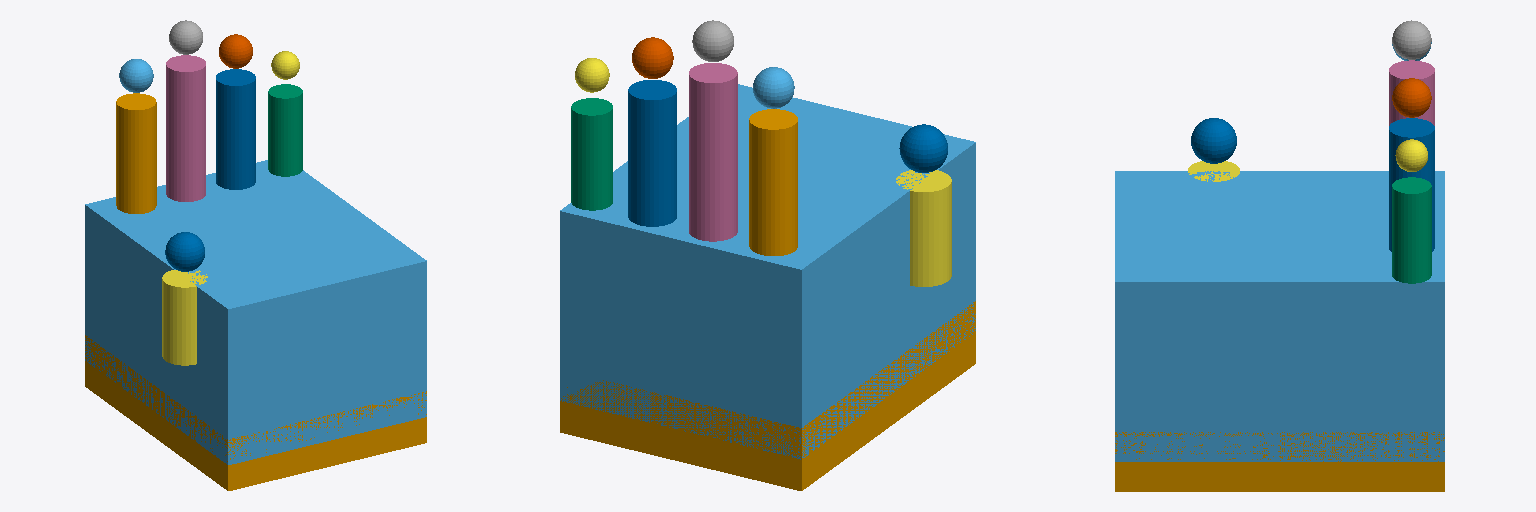
URDF robot description (inspire_ftp_right):
<?xml version="1.0" encoding="utf-8"?>
<!-- 
  Inspire FTP Right Gripper URDF
  
  This is a simplified URDF for the Inspire FTP gripper for use with dex-retargeting.
  The Inspire FTP has 6 DOF per hand:
  - Index finger (1 DOF)
  - Middle finger (1 DOF)
  - Ring finger (1 DOF)
  - Pinky finger (1 DOF)
  - Thumb bend (1 DOF)
  - Thumb rotation (1 DOF)
  
  Joint indices match the Inspire FTP hardware order:
  0: pinky, 1: ring, 2: middle, 3: index, 4: thumb_bend, 5: thumb_rotation
-->
<robot name="inspire_ftp_right">
  
  <!-- Base link (wrist mount point) -->
  <link name="R_hand_base">
    <inertial>
      <origin xyz="0 0 0" rpy="0 0 0"/>
      <mass value="0.1"/>
      <inertia ixx="0.001" ixy="0" ixz="0" iyy="0.001" iyz="0" izz="0.001"/>
    </inertial>
    <visual>
      <origin xyz="0 0 0" rpy="0 0 0"/>
      <geometry>
        <box size="0.08 0.1 0.02"/>
      </geometry>
    </visual>
  </link>
  
  <!-- Palm link -->
  <link name="R_palm">
    <inertial>
      <origin xyz="0 0 0.03" rpy="0 0 0"/>
      <mass value="0.15"/>
      <inertia ixx="0.001" ixy="0" ixz="0" iyy="0.001" iyz="0" izz="0.001"/>
    </inertial>
    <visual>
      <origin xyz="0 0 0.03" rpy="0 0 0"/>
      <geometry>
        <box size="0.08 0.1 0.06"/>
      </geometry>
    </visual>
  </link>
  
  <joint name="R_wrist_joint" type="fixed">
    <parent link="R_hand_base"/>
    <child link="R_palm"/>
    <origin xyz="0 0 0" rpy="0 0 0"/>
  </joint>
  
  <!-- ========== PINKY FINGER (idx 0) ========== -->
  <link name="R_pinky_proximal">
    <inertial>
      <origin xyz="0 0 0.02" rpy="0 0 0"/>
      <mass value="0.01"/>
      <inertia ixx="0.0001" ixy="0" ixz="0" iyy="0.0001" iyz="0" izz="0.0001"/>
    </inertial>
    <visual>
      <origin xyz="0 0 0.015" rpy="0 0 0"/>
      <geometry>
        <cylinder radius="0.006" length="0.03"/>
      </geometry>
    </visual>
  </link>
  
  <joint name="R_pinky_proximal_joint" type="revolute">
    <parent link="R_palm"/>
    <child link="R_pinky_proximal"/>
    <origin xyz="0.035 0.04 0.06" rpy="0 0 0"/>
    <axis xyz="1 0 0"/>
    <limit lower="0" upper="1.7" effort="1" velocity="2"/>
  </joint>
  
  <link name="R_pinky_tip">
    <inertial>
      <origin xyz="0 0 0.01" rpy="0 0 0"/>
      <mass value="0.005"/>
      <inertia ixx="0.00001" ixy="0" ixz="0" iyy="0.00001" iyz="0" izz="0.00001"/>
    </inertial>
    <visual>
      <origin xyz="0 0 0.01" rpy="0 0 0"/>
      <geometry>
        <sphere radius="0.005"/>
      </geometry>
    </visual>
  </link>
  
  <joint name="R_pinky_tip_joint" type="fixed">
    <parent link="R_pinky_proximal"/>
    <child link="R_pinky_tip"/>
    <origin xyz="0 0 0.03" rpy="0 0 0"/>
  </joint>
  
  <!-- ========== RING FINGER (idx 1) ========== -->
  <link name="R_ring_proximal">
    <inertial>
      <origin xyz="0 0 0.025" rpy="0 0 0"/>
      <mass value="0.01"/>
      <inertia ixx="0.0001" ixy="0" ixz="0" iyy="0.0001" iyz="0" izz="0.0001"/>
    </inertial>
    <visual>
      <origin xyz="0 0 0.02" rpy="0 0 0"/>
      <geometry>
        <cylinder radius="0.007" length="0.04"/>
      </geometry>
    </visual>
  </link>
  
  <joint name="R_ring_proximal_joint" type="revolute">
    <parent link="R_palm"/>
    <child link="R_ring_proximal"/>
    <origin xyz="0.015 0.04 0.06" rpy="0 0 0"/>
    <axis xyz="1 0 0"/>
    <limit lower="0" upper="1.7" effort="1" velocity="2"/>
  </joint>
  
  <link name="R_ring_tip">
    <inertial>
      <origin xyz="0 0 0.01" rpy="0 0 0"/>
      <mass value="0.005"/>
      <inertia ixx="0.00001" ixy="0" ixz="0" iyy="0.00001" iyz="0" izz="0.00001"/>
    </inertial>
    <visual>
      <origin xyz="0 0 0.01" rpy="0 0 0"/>
      <geometry>
        <sphere radius="0.006"/>
      </geometry>
    </visual>
  </link>
  
  <joint name="R_ring_tip_joint" type="fixed">
    <parent link="R_ring_proximal"/>
    <child link="R_ring_tip"/>
    <origin xyz="0 0 0.04" rpy="0 0 0"/>
  </joint>
  
  <!-- ========== MIDDLE FINGER (idx 2) ========== -->
  <link name="R_middle_proximal">
    <inertial>
      <origin xyz="0 0 0.025" rpy="0 0 0"/>
      <mass value="0.01"/>
      <inertia ixx="0.0001" ixy="0" ixz="0" iyy="0.0001" iyz="0" izz="0.0001"/>
    </inertial>
    <visual>
      <origin xyz="0 0 0.025" rpy="0 0 0"/>
      <geometry>
        <cylinder radius="0.007" length="0.05"/>
      </geometry>
    </visual>
  </link>
  
  <joint name="R_middle_proximal_joint" type="revolute">
    <parent link="R_palm"/>
    <child link="R_middle_proximal"/>
    <origin xyz="-0.005 0.04 0.06" rpy="0 0 0"/>
    <axis xyz="1 0 0"/>
    <limit lower="0" upper="1.7" effort="1" velocity="2"/>
  </joint>
  
  <link name="R_middle_tip">
    <inertial>
      <origin xyz="0 0 0.01" rpy="0 0 0"/>
      <mass value="0.005"/>
      <inertia ixx="0.00001" ixy="0" ixz="0" iyy="0.00001" iyz="0" izz="0.00001"/>
    </inertial>
    <visual>
      <origin xyz="0 0 0.01" rpy="0 0 0"/>
      <geometry>
        <sphere radius="0.006"/>
      </geometry>
    </visual>
  </link>
  
  <joint name="R_middle_tip_joint" type="fixed">
    <parent link="R_middle_proximal"/>
    <child link="R_middle_tip"/>
    <origin xyz="0 0 0.05" rpy="0 0 0"/>
  </joint>
  
  <!-- ========== INDEX FINGER (idx 3) ========== -->
  <link name="R_index_proximal">
    <inertial>
      <origin xyz="0 0 0.02" rpy="0 0 0"/>
      <mass value="0.01"/>
      <inertia ixx="0.0001" ixy="0" ixz="0" iyy="0.0001" iyz="0" izz="0.0001"/>
    </inertial>
    <visual>
      <origin xyz="0 0 0.02" rpy="0 0 0"/>
      <geometry>
        <cylinder radius="0.007" length="0.04"/>
      </geometry>
    </visual>
  </link>
  
  <joint name="R_index_proximal_joint" type="revolute">
    <parent link="R_palm"/>
    <child link="R_index_proximal"/>
    <origin xyz="-0.025 0.04 0.06" rpy="0 0 0"/>
    <axis xyz="1 0 0"/>
    <limit lower="0" upper="1.7" effort="1" velocity="2"/>
  </joint>
  
  <link name="R_index_tip">
    <inertial>
      <origin xyz="0 0 0.01" rpy="0 0 0"/>
      <mass value="0.005"/>
      <inertia ixx="0.00001" ixy="0" ixz="0" iyy="0.00001" iyz="0" izz="0.00001"/>
    </inertial>
    <visual>
      <origin xyz="0 0 0.01" rpy="0 0 0"/>
      <geometry>
        <sphere radius="0.006"/>
      </geometry>
    </visual>
  </link>
  
  <joint name="R_index_tip_joint" type="fixed">
    <parent link="R_index_proximal"/>
    <child link="R_index_tip"/>
    <origin xyz="0 0 0.04" rpy="0 0 0"/>
  </joint>
  
  <!-- ========== THUMB (idx 4: bend, idx 5: rotation) ========== -->
  <link name="R_thumb_base">
    <inertial>
      <origin xyz="0 0 0" rpy="0 0 0"/>
      <mass value="0.01"/>
      <inertia ixx="0.0001" ixy="0" ixz="0" iyy="0.0001" iyz="0" izz="0.0001"/>
    </inertial>
  </link>
  
  <joint name="R_thumb_proximal_yaw_joint" type="revolute">
    <parent link="R_palm"/>
    <child link="R_thumb_base"/>
    <origin xyz="-0.04 -0.02 0.03" rpy="0 0 0.5"/>
    <axis xyz="0 0 1"/>
    <limit lower="-0.1" upper="1.3" effort="1" velocity="2"/>
  </joint>
  
  <link name="R_thumb_proximal">
    <inertial>
      <origin xyz="0 0 0.015" rpy="0 0 0"/>
      <mass value="0.01"/>
      <inertia ixx="0.0001" ixy="0" ixz="0" iyy="0.0001" iyz="0" izz="0.0001"/>
    </inertial>
    <visual>
      <origin xyz="0 0 0.015" rpy="0 0 0"/>
      <geometry>
        <cylinder radius="0.008" length="0.03"/>
      </geometry>
    </visual>
  </link>
  
  <joint name="R_thumb_proximal_pitch_joint" type="revolute">
    <parent link="R_thumb_base"/>
    <child link="R_thumb_proximal"/>
    <origin xyz="0 0 0" rpy="0 0 0"/>
    <axis xyz="1 0 0"/>
    <limit lower="0" upper="0.5" effort="1" velocity="2"/>
  </joint>
  
  <link name="R_thumb_tip">
    <inertial>
      <origin xyz="0 0 0.01" rpy="0 0 0"/>
      <mass value="0.005"/>
      <inertia ixx="0.00001" ixy="0" ixz="0" iyy="0.00001" iyz="0" izz="0.00001"/>
    </inertial>
    <visual>
      <origin xyz="0 0 0.01" rpy="0 0 0"/>
      <geometry>
        <sphere radius="0.007"/>
      </geometry>
    </visual>
  </link>
  
  <joint name="R_thumb_tip_joint" type="fixed">
    <parent link="R_thumb_proximal"/>
    <child link="R_thumb_tip"/>
    <origin xyz="0 0 0.03" rpy="0 0 0"/>
  </joint>
  
</robot>

--- Facts derived from the render (not from the file) ---
Views: 3 orthographic renders of the robot side by side, from view 1: azimuth 30°, elevation 25°; view 2: azimuth 150°, elevation 25°; view 3: azimuth 270°, elevation 25°.
Robot: inspire_ftp_right — 13 links, 12 joints (6 revolute, 6 fixed); root link R_hand_base; default pose: every joint at zero.
Visible links, largest first — view 1: R_palm, R_hand_base, R_middle_proximal, R_index_proximal, R_ring_proximal, R_thumb_proximal, R_pinky_proximal, R_thumb_tip, R_ring_tip, R_middle_tip, R_index_tip, R_pinky_tip; view 2: R_palm, R_hand_base, R_middle_proximal, R_index_proximal, R_ring_proximal, R_thumb_proximal, R_pinky_proximal, R_thumb_tip, R_index_tip, R_middle_tip, R_ring_tip, R_pinky_tip; view 3: R_palm, R_hand_base, R_pinky_proximal, R_ring_proximal, R_thumb_tip, R_middle_proximal, R_middle_tip, R_ring_tip, R_pinky_tip, R_thumb_proximal.
Boxes of the visible links, left/top/right/bottom form: R_palm: left=85, top=160, right=426, bottom=464; R_hand_base: left=85, top=335, right=426, bottom=490; R_middle_proximal: left=166, top=55, right=205, bottom=201; R_index_proximal: left=116, top=93, right=156, bottom=213; R_ring_proximal: left=216, top=69, right=255, bottom=189; R_thumb_proximal: left=162, top=270, right=207, bottom=365; R_pinky_proximal: left=268, top=84, right=302, bottom=176; R_thumb_tip: left=165, top=232, right=204, bottom=271; R_ring_tip: left=219, top=34, right=252, bottom=68; R_middle_tip: left=169, top=20, right=202, bottom=54; R_index_tip: left=119, top=59, right=153, bottom=92; R_pinky_tip: left=271, top=51, right=299, bottom=79; R_palm: left=560, top=84, right=975, bottom=459; R_hand_base: left=560, top=301, right=975, bottom=490; R_middle_proximal: left=689, top=63, right=737, bottom=241; R_index_proximal: left=749, top=109, right=797, bottom=255; R_ring_proximal: left=628, top=80, right=676, bottom=226; R_thumb_proximal: left=896, top=170, right=951, bottom=286; R_pinky_proximal: left=571, top=98, right=612, bottom=210; R_thumb_tip: left=899, top=124, right=947, bottom=172; R_index_tip: left=753, top=67, right=794, bottom=108; R_middle_tip: left=692, top=20, right=733, bottom=61; R_ring_tip: left=632, top=37, right=673, bottom=78; R_pinky_tip: left=575, top=58, right=609, bottom=92; R_palm: left=1115, top=171, right=1444, bottom=461; R_hand_base: left=1115, top=432, right=1444, bottom=491; R_pinky_proximal: left=1392, top=177, right=1431, bottom=283; R_ring_proximal: left=1389, top=118, right=1434, bottom=251; R_thumb_tip: left=1191, top=118, right=1236, bottom=163; R_middle_proximal: left=1389, top=60, right=1434, bottom=125; R_middle_tip: left=1392, top=20, right=1431, bottom=59; R_ring_tip: left=1392, top=78, right=1431, bottom=117; R_pinky_tip: left=1395, top=139, right=1427, bottom=171; R_thumb_proximal: left=1188, top=161, right=1239, bottom=181.
Bounding box of the posed robot: 0.089 × 0.1 × 0.136 m (x, y, z).
Geometry: primitives only (box / cylinder / sphere), no mesh files.
